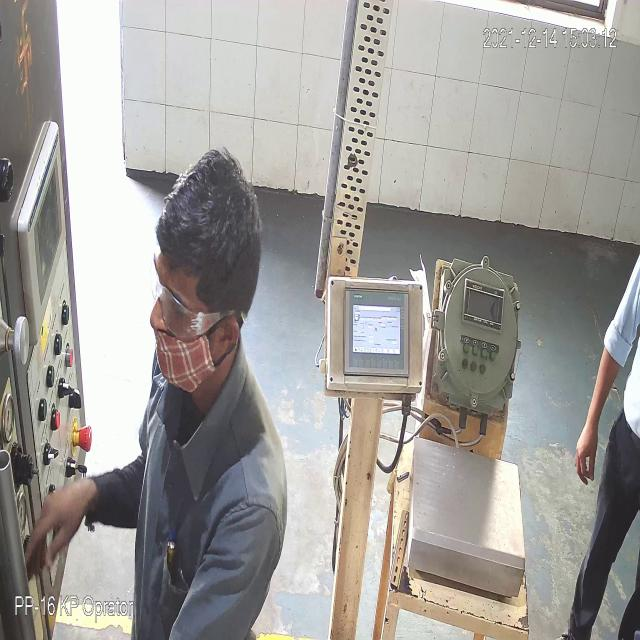glasses: (151, 272, 234, 338)
no-gloves: (568, 340, 616, 490)
